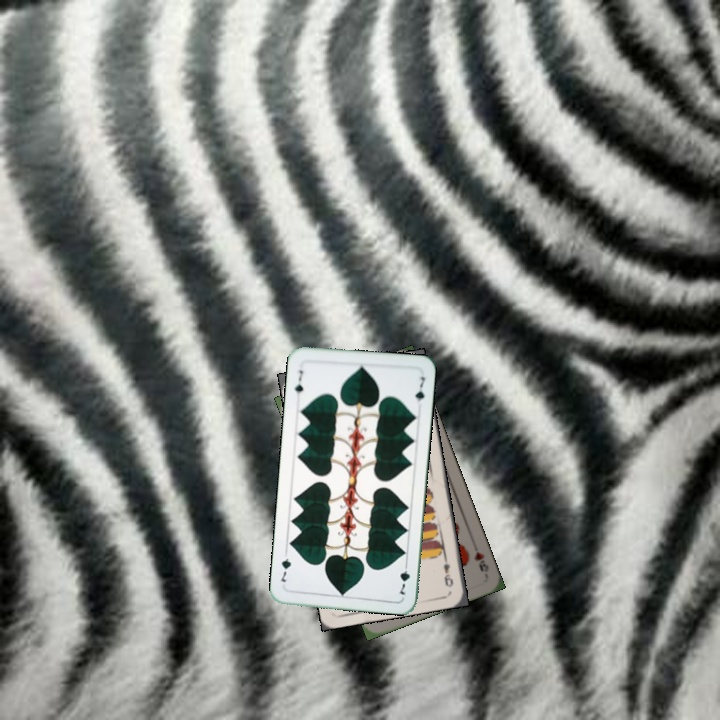E9: (439, 551, 456, 589)
G7: (394, 558, 412, 597), (291, 366, 306, 396)
H9: (470, 548, 492, 574)
